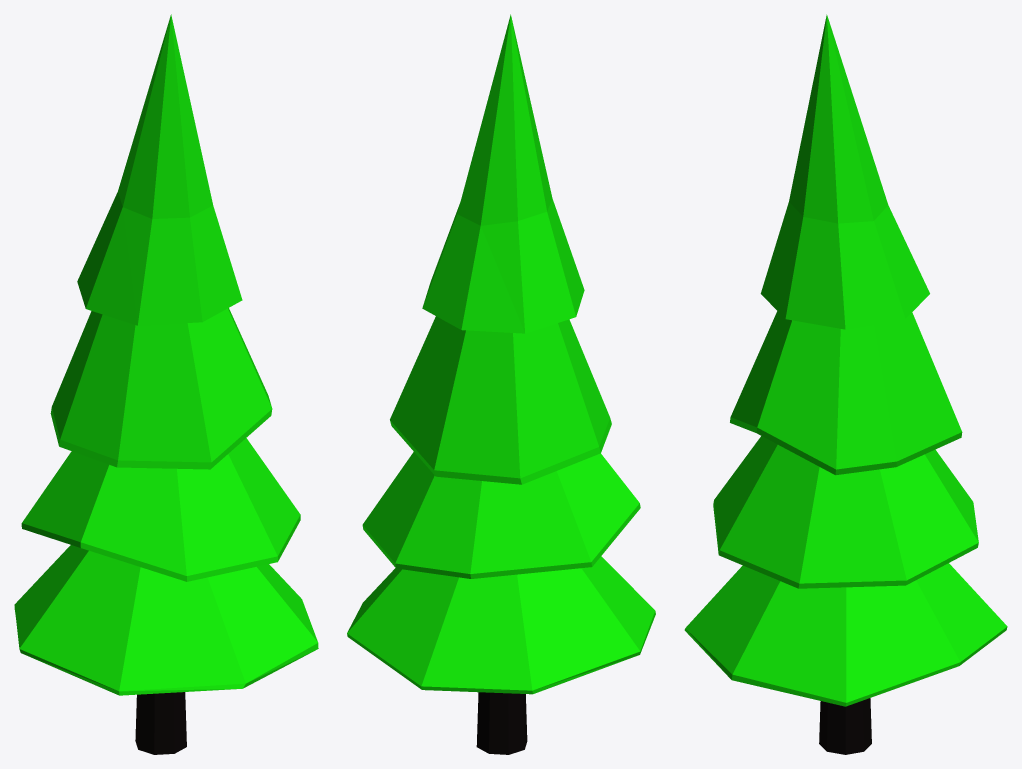
File: FBX_Tree_B.FBX
3 views of the same model, side by side, from view 1: azimuth 30°, elevation 25°; view 2: azimuth 150°, elevation 25°; view 3: azimuth 270°, elevation 25° (orthographic).
Parts seen in each view (by area): view 1: Tree_B; view 2: Tree_B; view 3: Tree_B.
Part boxes in pixels (x1,y1,x2,y2): Tree_B: (14,14,318,754); Tree_B: (347,14,655,754); Tree_B: (684,14,1007,754).
Size of the model in its own units: 2.68 by 6.67 by 2.68.
